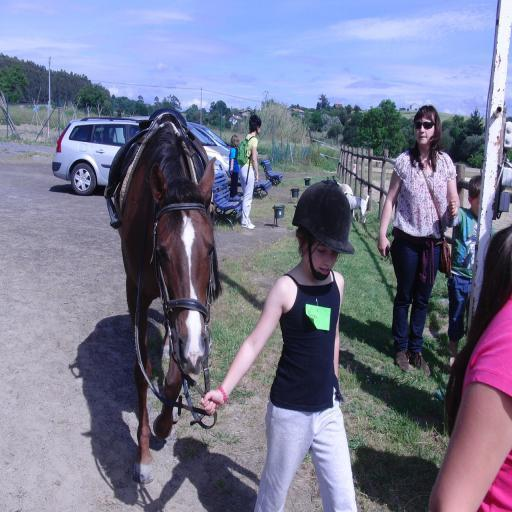horse: (109, 111, 224, 488)
